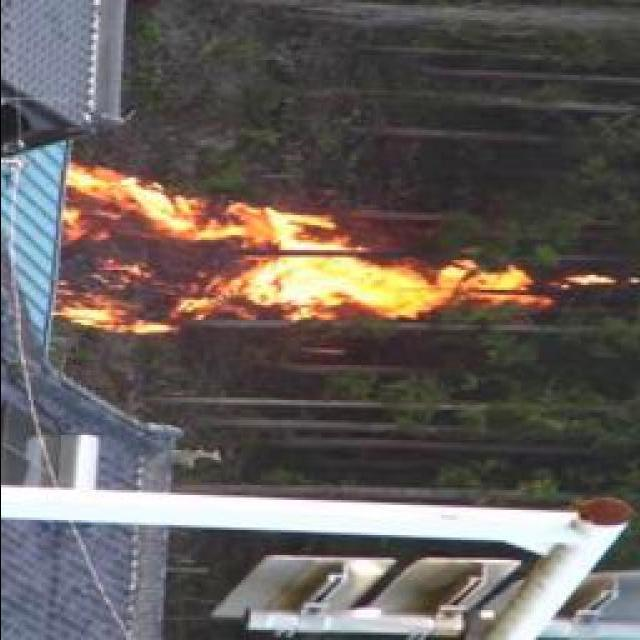Fire: (57, 166, 532, 333)
